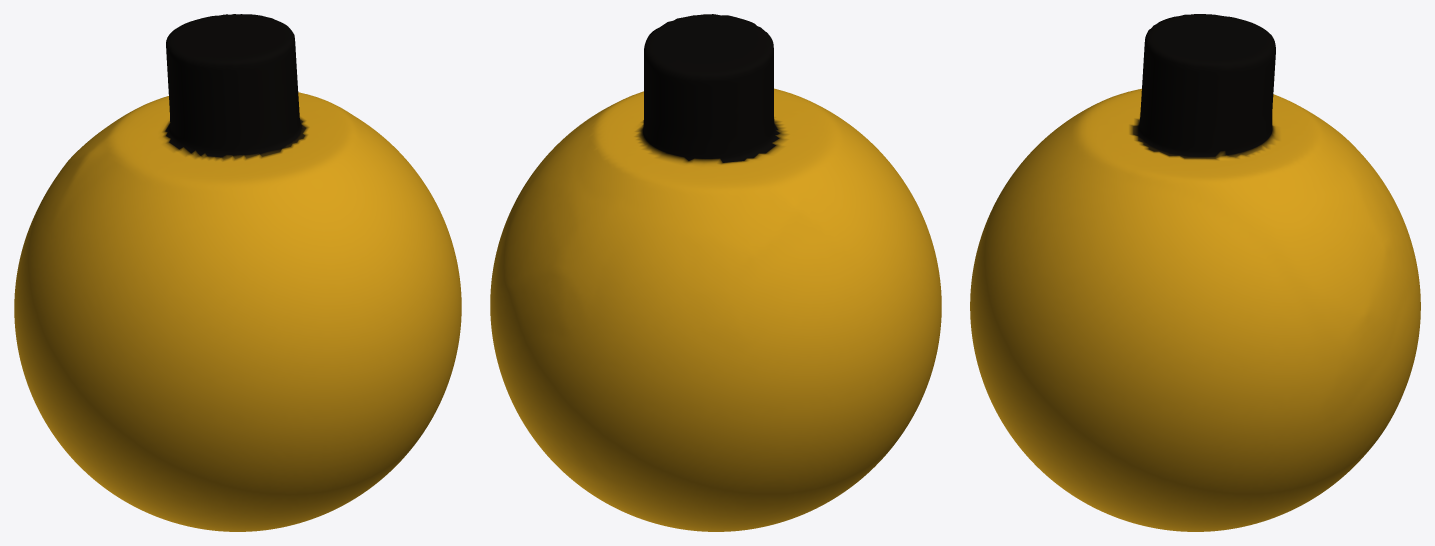
File: TRANKZWEI.fbx
3 views of the same model, side by side, from view 1: azimuth 30°, elevation 25°; view 2: azimuth 150°, elevation 25°; view 3: azimuth 270°, elevation 25° (orthographic).
Parts seen in each view (by area): view 1: ReferenceModel_Selection_9; view 2: ReferenceModel_Selection_9; view 3: ReferenceModel_Selection_9.
Part boxes in pixels (box(x1,y1,x2,y2)): ReferenceModel_Selection_9: box(14, 14, 461, 531); ReferenceModel_Selection_9: box(490, 14, 941, 531); ReferenceModel_Selection_9: box(970, 14, 1420, 531).
Bounding box in the file's own units: 34.51 × 40.13 × 34.45.
